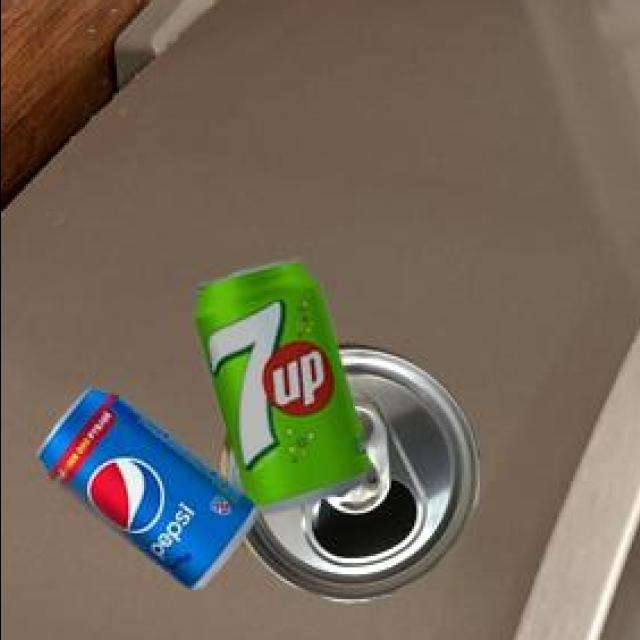logam: (224, 342, 482, 598), (199, 258, 373, 510), (42, 385, 258, 584)
